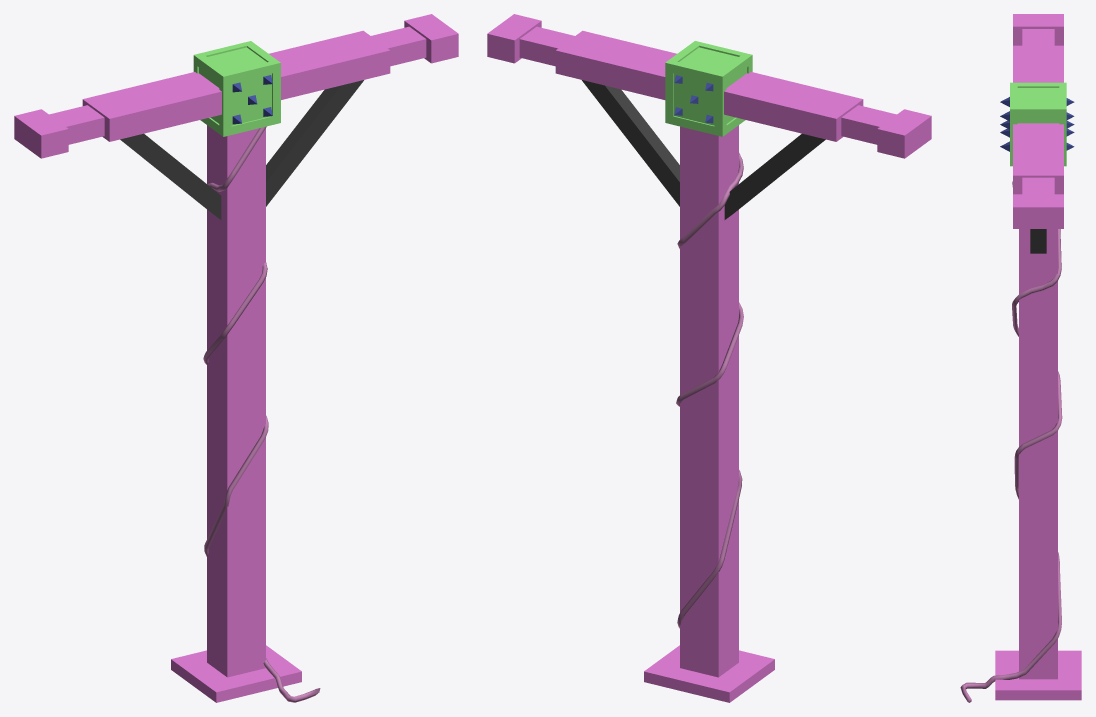
File: Wooden_Column.fbx
The picture shows the model from 3 angles, left to right: view 1: azimuth 30°, elevation 25°; view 2: azimuth 150°, elevation 25°; view 3: azimuth 270°, elevation 25°; orthographic projection. The views are drawn at different scales.
Parts seen in each view (by area): view 1: Box048, Shape; view 2: Box048, Shape; view 3: Box048, Shape.
Part boxes in pixels (x1,y1,x2,y2): Box048: (14, 14, 458, 702); Shape: (203, 126, 320, 702); Box048: (487, 14, 931, 702); Shape: (676, 153, 743, 628); Box048: (995, 14, 1081, 700); Shape: (960, 181, 1062, 702).
Bounding box in the file's own units: 136 × 36.05 × 193.
